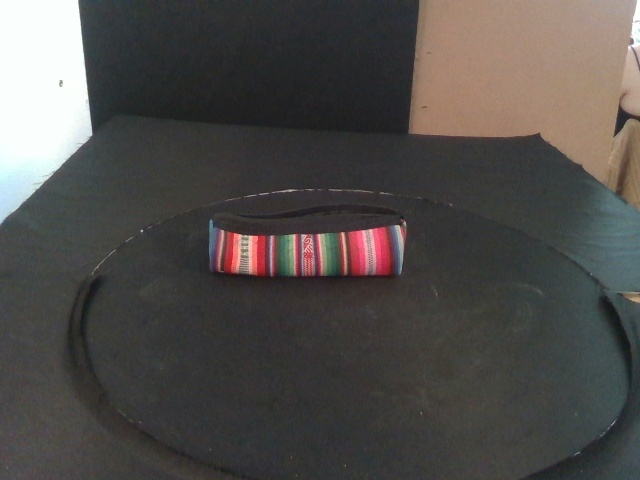pencil_case: (207, 203, 408, 279)
